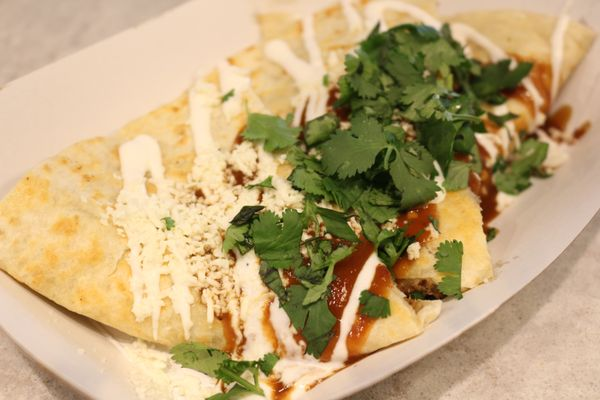sandwich: (0, 11, 564, 390)
